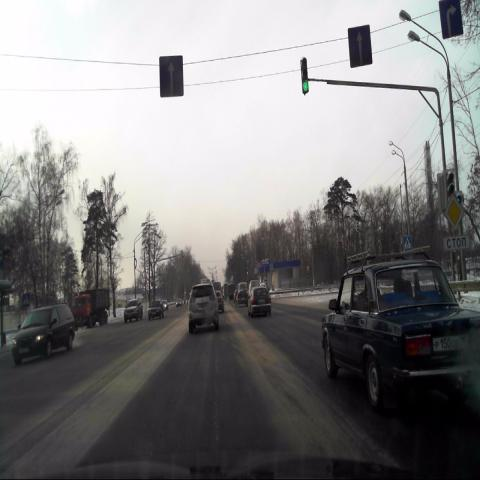6_16: (443, 235, 470, 250)
